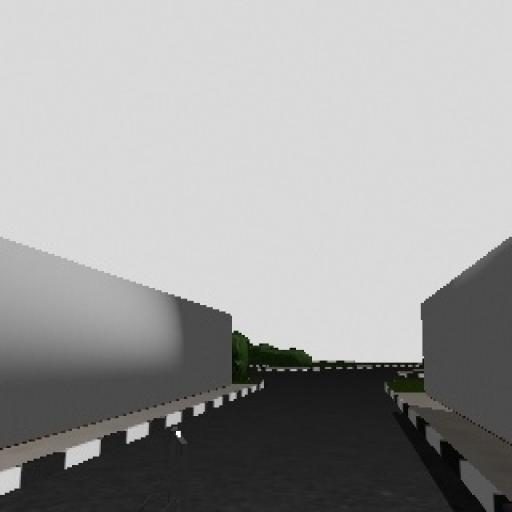huskya200: (103, 415, 214, 510)
